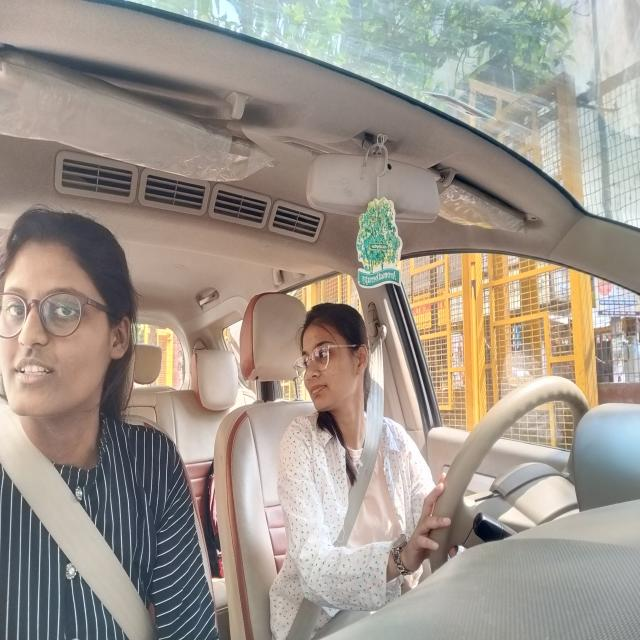LeftRight: (298, 299, 369, 414)
person: (0, 207, 136, 425)
